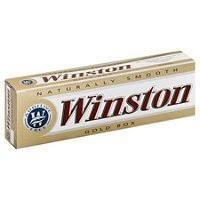Cardboard: (6, 25, 200, 179)
